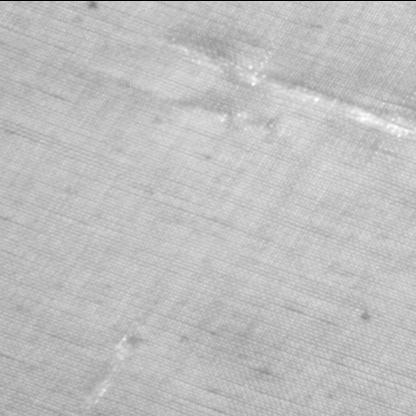thread error: (157, 15, 415, 143), (71, 328, 151, 416), (176, 89, 284, 143)
